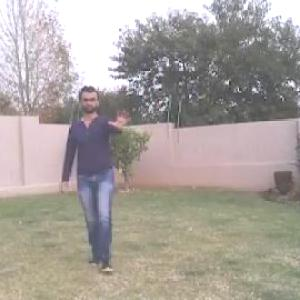follow_hand: (106, 103, 136, 132)
